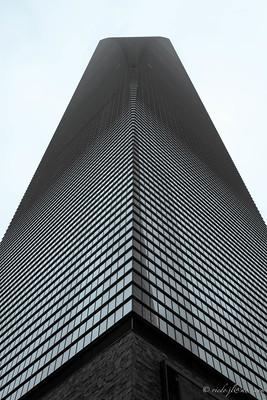building: (1, 29, 267, 396)
